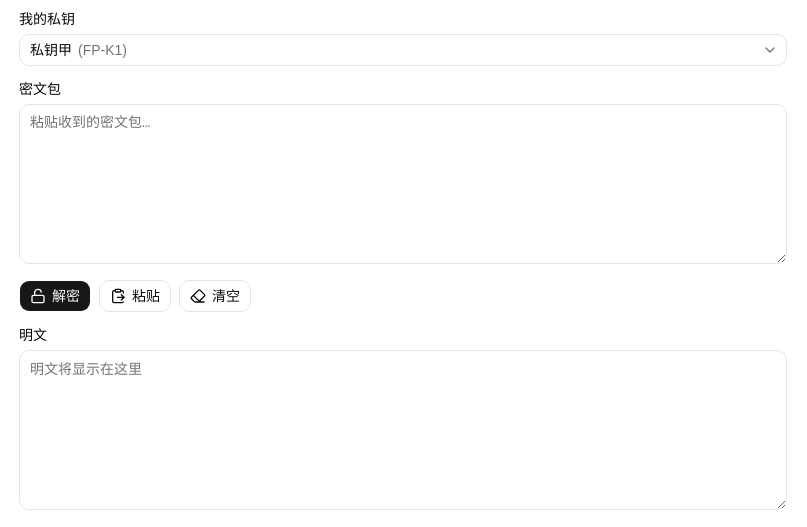
Scenario: DecryptPage › 有保存的密码时直接解密（useSavedPassword 路径）
The width and height of the screenshot is (807, 527).
Expected: the dropdown reads "私钥甲 (FP-K1)", [19, 34, 787, 66]
Type "CIPHER-PACKAGE" into the text box labelled "密文包". click: (403, 184)
box: [19, 104, 787, 264]
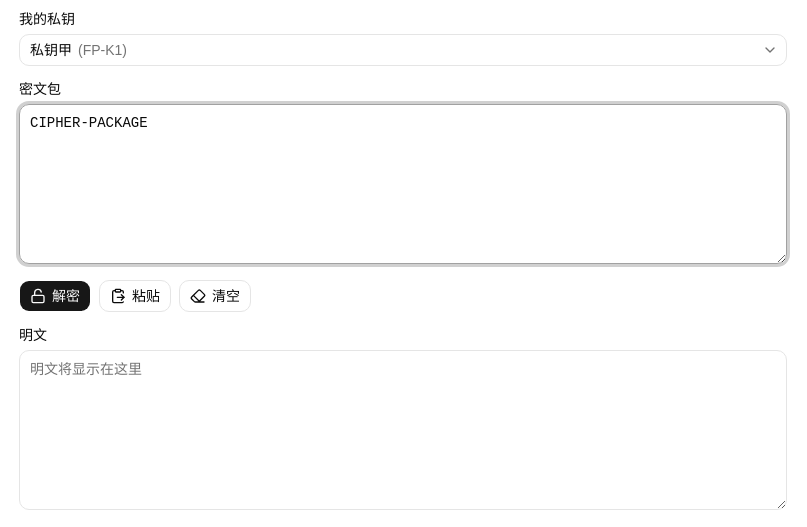
Click the button "解密". click: (55, 296)
box: [19, 280, 91, 312]
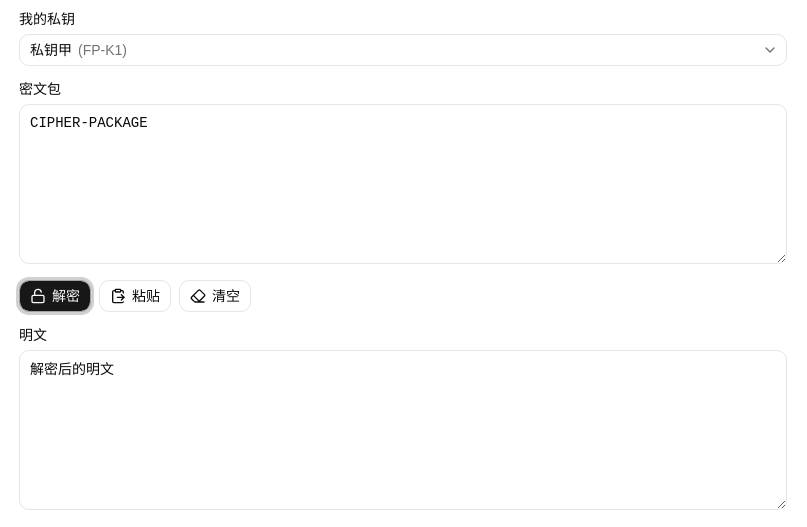
Expected: the text box labelled "明文" holds "解密后的明文", [19, 350, 787, 510]
